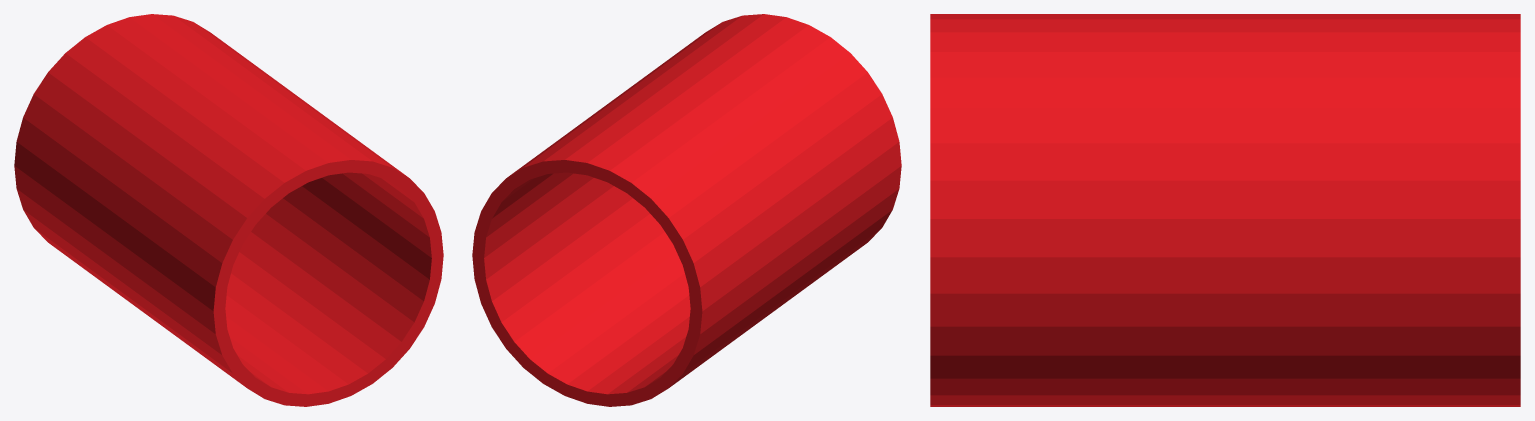
Rendered from tunnel2.fbx.
The picture shows the model from 3 angles, left to right: view 1: azimuth 30°, elevation 25°; view 2: azimuth 150°, elevation 25°; view 3: azimuth 270°, elevation 25°; orthographic projection. The views are drawn at different scales.
Visible parts, largest first — view 1: Tunnel.000; view 2: Tunnel.000; view 3: Tunnel.000.
Part boxes in pixels (x1,y1,x2,y2): Tunnel.000: (14, 14, 443, 406); Tunnel.000: (472, 14, 901, 406); Tunnel.000: (930, 14, 1520, 406).
Bounding box in the file's own units: 8 × 8 × 12.
